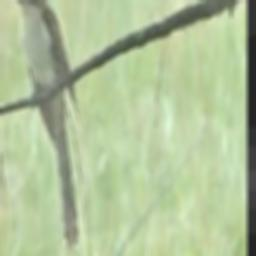Cuckoo: (9, 0, 83, 251)
